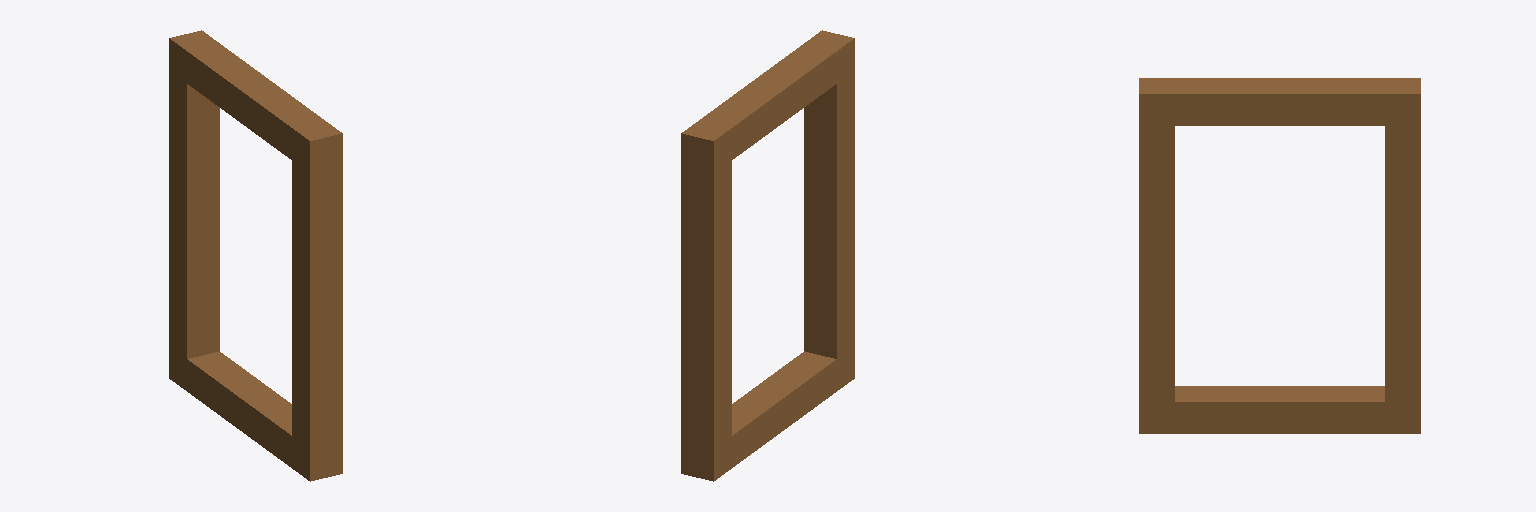
Rendered from detail.obj.
The picture shows the model from 3 angles: view 1: azimuth 30°, elevation 25°; view 2: azimuth 150°, elevation 25°; view 3: azimuth 270°, elevation 25°; orthographic projection.
Parts seen in each view (by area): view 1: detail; view 2: detail; view 3: detail.
Boxes of the visible parts, <box> form: detail: <box>169,30,342,481</box>; detail: <box>681,30,854,481</box>; detail: <box>1139,78,1420,433</box>.
Size of the model in its own units: 0.05 by 0.5 by 0.375.